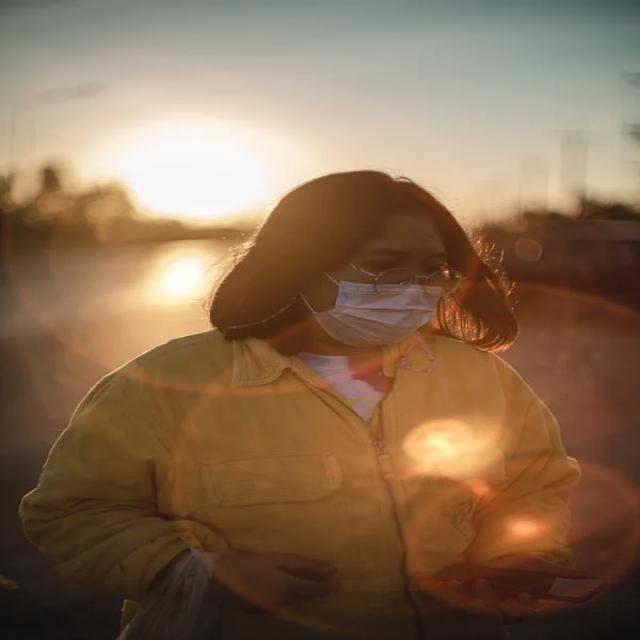mask: (256, 194, 482, 369)
